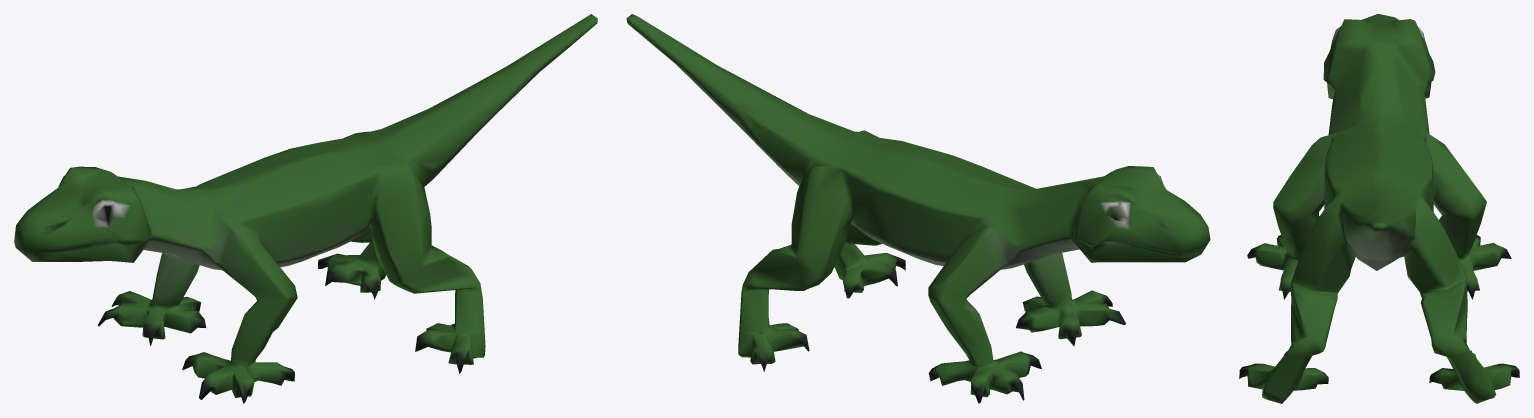
File: gen3d-lizard-lod0.glb
3 renders of one model, left to right at view 1: azimuth 30°, elevation 25°; view 2: azimuth 150°, elevation 25°; view 3: azimuth 270°, elevation 25°, orthographic.
Visible parts, largest first — view 1: part_0; view 2: part_0; view 3: part_0.
Part boxes in pixels (left/top/right/bottom): part_0: left=14, top=14, right=597, bottom=403; part_0: left=626, top=14, right=1210, bottom=403; part_0: left=1239, top=14, right=1519, bottom=403.
Size of the model in its own units: 2.31 by 0.9975 by 0.9826.
